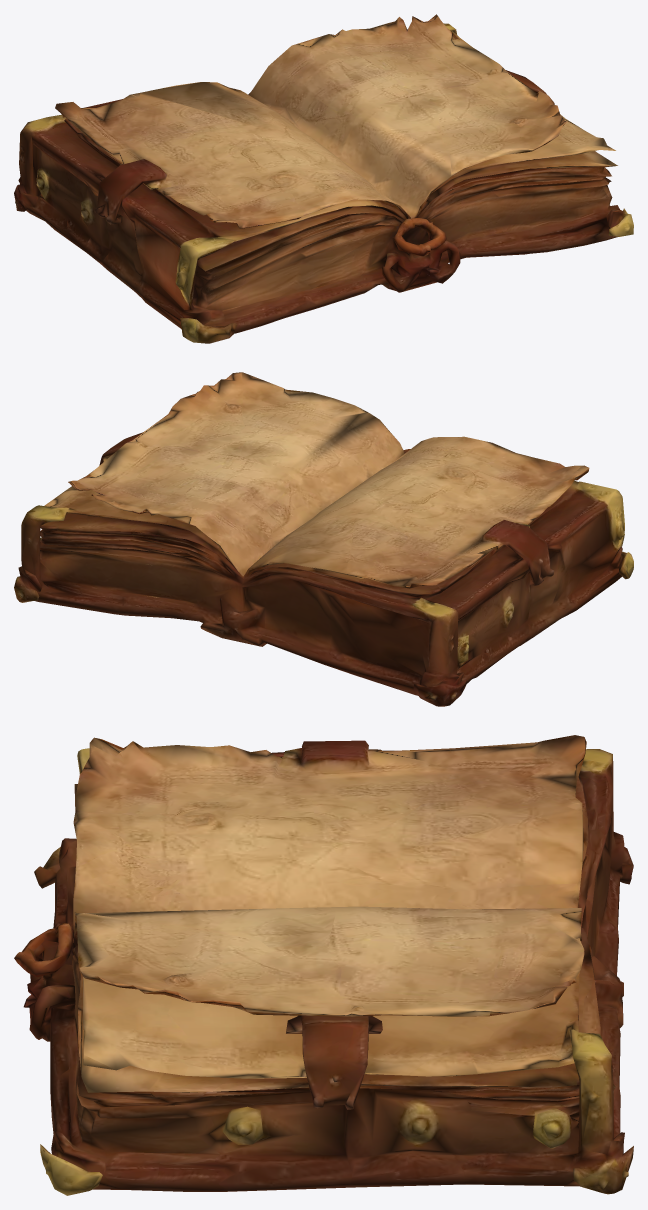
File: spellbook.glb
The picture shows the model from 3 angles, top to bottom: view 1: azimuth 30°, elevation 25°; view 2: azimuth 150°, elevation 25°; view 3: azimuth 270°, elevation 25°; orthographic projection. The views are drawn at different scales.
Parts seen in each view (by area): view 1: tripo_node_75c7a098-be03-483b-8b7c-460a90b1a8e3; view 2: tripo_node_75c7a098-be03-483b-8b7c-460a90b1a8e3; view 3: tripo_node_75c7a098-be03-483b-8b7c-460a90b1a8e3.
Part boxes in pixels (box(x1,y1,x2,y2)): tripo_node_75c7a098-be03-483b-8b7c-460a90b1a8e3: box(14, 14, 633, 343); tripo_node_75c7a098-be03-483b-8b7c-460a90b1a8e3: box(14, 372, 633, 706); tripo_node_75c7a098-be03-483b-8b7c-460a90b1a8e3: box(14, 735, 633, 1195).
Bounding box in the file's own units: 0.9802 × 0.2534 × 0.7738.
Materials: 1 (1 with a texture image).
